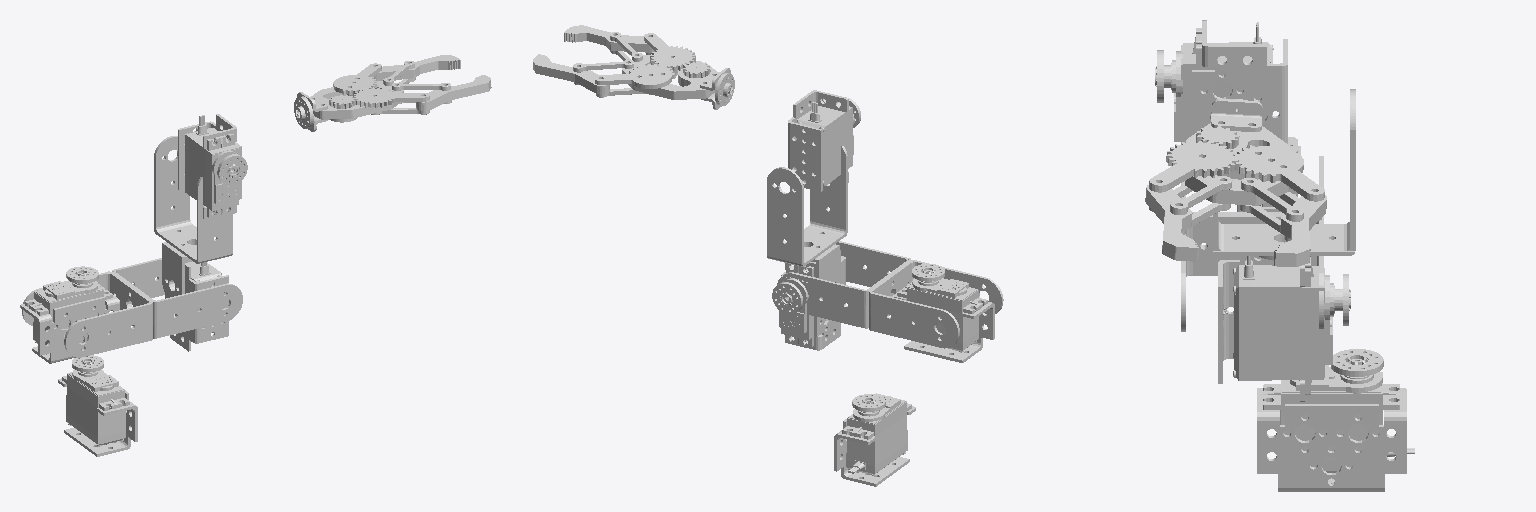
URDF robot description (manipulator_description):
<?xml version="1.0" encoding="utf-8"?>
<!-- This URDF was automatically created by SolidWorks to URDF Exporter! Originally created by Stephen Brawner (brawner@gmail.com) 
     Commit Version: 1.6.0-4-g7f85cfe  Build Version: 1.6.7995.38578
     For more information, please see http://wiki.ros.org/sw_urdf_exporter -->
<robot
  name="manipulator_description">
  <link
    name="base_link">
    <inertial>
      <origin
        xyz="-0.00125935649399742 -0.000470828682098662 0.0242757991162855"
        rpy="0 0 0" />
      <mass
        value="0.0382070631949755" />
      <inertia
        ixx="1.06084491676467E-05"
        ixy="-3.26790900389718E-10"
        ixz="1.55715035338171E-07"
        iyy="6.05895904112999E-06"
        iyz="1.70232643106764E-08"
        izz="7.32724940736576E-06" />
    </inertial>
    <visual>
      <origin
        xyz="0 0 0"
        rpy="0 0 0" />
      <geometry>
        <mesh
          filename="package://manipulator_description/meshes/visual/base_link.STL" />
      </geometry>
      <material
        name="">
        <color
          rgba="0.894117647058823 0.894117647058823 0.894117647058823 1" />
      </material>
    </visual>
    <collision>
      <origin
        xyz="0 0 0"
        rpy="0 0 0" />
      <geometry>
        <mesh
          filename="package://manipulator_description/meshes/visual/base_link.STL" />
      </geometry>
    </collision>
  </link>
  <link
    name="link_1">
    <inertial>
      <origin
        xyz="-0.000352632925941452 -0.0122755959836562 0.011761084859218"
        rpy="0 0 0" />
      <mass
        value="0.0382070631949755" />
      <inertia
        ixx="6.05895904112999E-06"
        ixy="-1.39083232081176E-08"
        ixz="3.26790900394249E-10"
        iyy="7.32724940736578E-06"
        iyz="-1.5571391727732E-07"
        izz="1.06084491676467E-05" />
    </inertial>
    <visual>
      <origin
        xyz="0 0 0"
        rpy="0 0 0" />
      <geometry>
        <mesh
          filename="package://manipulator_description/meshes/visual/link_1.STL" />
      </geometry>
      <material
        name="">
        <color
          rgba="0.894117647058823 0.894117647058823 0.894117647058823 1" />
      </material>
    </visual>
    <collision>
      <origin
        xyz="0 0 0"
        rpy="0 0 0" />
      <geometry>
        <mesh
          filename="package://manipulator_description/meshes/visual/link_1.STL" />
      </geometry>
    </collision>
  </link>
  <joint
    name="joint_1"
    type="revolute">
    <origin
      xyz="-0.00013003 -0.010042 0.0523"
      rpy="0 0 0" />
    <parent
      link="base_link" />
    <child
      link="link_1" />
    <axis
      xyz="0 0 1" />
    <limit
      lower="-1.5708"
      upper="1.5708"
      effort="0"
      velocity="0" />
  </joint>
  <link
    name="link_2">
    <inertial>
      <origin
        xyz="0.051993515342474 -9.31322574615479E-10 -0.0267906665296395"
        rpy="0 0 0" />
      <mass
        value="0.0170251169263653" />
      <inertia
        ixx="1.08907010787335E-05"
        ixy="-3.11047077368203E-08"
        ixz="-5.69079581921169E-21"
        iyy="1.68733569095532E-05"
        iyz="4.92221335979852E-21"
        izz="7.85969468178104E-06" />
    </inertial>
    <visual>
      <origin
        xyz="0 0 0"
        rpy="0 0 0" />
      <geometry>
        <mesh
          filename="package://manipulator_description/meshes/visual/link_2.STL" />
      </geometry>
      <material
        name="">
        <color
          rgba="0.894117647058823 0.894117647058823 0.894117647058823 1" />
      </material>
    </visual>
    <collision>
      <origin
        xyz="0 0 0"
        rpy="0 0 0" />
      <geometry>
        <mesh
          filename="package://manipulator_description/meshes/visual/link_2.STL" />
      </geometry>
    </collision>
  </link>
  <joint
    name="joint_2"
    type="revolute">
    <origin
      xyz="-0.0099229 -0.0403 0.01289"
      rpy="1.5708 0 0" />
    <parent
      link="link_1" />
    <child
      link="link_2" />
    <axis
      xyz="0 0 1" />
    <limit
      lower="-0.18"
      upper="1.5708"
      effort="0"
      velocity="0" />
  </joint>
  <link
    name="link_3">
    <inertial>
      <origin
        xyz="0.0207872542879387 -0.00129222747215796 -0.0276277319990221"
        rpy="0 0 0" />
      <mass
        value="0.0494773487894259" />
      <inertia
        ixx="1.18336660189981E-05"
        ixy="-1.24373046667245E-07"
        ixz="1.22838258168432E-08"
        iyy="1.954406916305E-05"
        iyz="1.55736259696696E-07"
        izz="1.17899796886126E-05" />
    </inertial>
    <visual>
      <origin
        xyz="0 0 0"
        rpy="0 0 0" />
      <geometry>
        <mesh
          filename="package://manipulator_description/meshes/visual/link_3.STL" />
      </geometry>
      <material
        name="">
        <color
          rgba="0.894117647058823 0.894117647058823 0.894117647058823 1" />
      </material>
    </visual>
    <collision>
      <origin
        xyz="0 0 0"
        rpy="0 0 0" />
      <geometry>
        <mesh
          filename="package://manipulator_description/meshes/visual/link_3.STL" />
      </geometry>
    </collision>
  </link>
  <joint
    name="joint_3"
    type="revolute">
    <origin
      xyz="0.10399 0 -0.0536"
      rpy="3.1416 0 1.5708" />
    <parent
      link="link_2" />
    <child
      link="link_3" />
    <axis
      xyz="0 0 1" />
    <limit
      lower="-0.9"
      upper="1.5708"
      effort="0"
      velocity="0" />
  </joint>
  <link
    name="link_4">
    <inertial>
      <origin
        xyz="0.0195473572227962 0.00989478222104906 -0.0286687556334632"
        rpy="0 0 0" />
      <mass
        value="0.0764141263985193" />
      <inertia
        ixx="1.7935698575237E-05"
        ixy="1.54155242457294E-07"
        ixz="-1.79704895792915E-07"
        iyy="1.66481799207673E-05"
        iyz="-2.81234507419311E-07"
        izz="1.34054367385943E-05" />
    </inertial>
    <visual>
      <origin
        xyz="0 0 0"
        rpy="0 0 0" />
      <geometry>
        <mesh
          filename="package://manipulator_description/meshes/visual/link_4.STL" />
      </geometry>
      <material
        name="">
        <color
          rgba="0.894117647058823 0.894117647058823 0.894117647058823 1" />
      </material>
    </visual>
    <collision>
      <origin
        xyz="0 0 0"
        rpy="0 0 0" />
      <geometry>
        <mesh
          filename="package://manipulator_description/meshes/visual/link_4.STL" />
      </geometry>
    </collision>
  </link>
  <joint
    name="joint_4"
    type="revolute">
    <origin
      xyz="0.096947 0.00052331 -0.053071"
      rpy="3.1416 0 1.5708" />
    <parent
      link="link_3" />
    <child
      link="link_4" />
    <axis
      xyz="0 0 1" />
    <limit
      lower="-0.7"
      upper="1.5708"
      effort="0"
      velocity="0" />
  </joint>
  <link
    name="link_5">
    <inertial>
      <origin
        xyz="-0.000538856928884224 -0.000263120239408951 0.0569395076569807"
        rpy="0 0 0" />
      <mass
        value="0.0268863153129433" />
      <inertia
        ixx="7.16101855054134E-06"
        ixy="-1.13902756733897E-07"
        ixz="4.51408091744934E-09"
        iyy="5.41815544607678E-06"
        iyz="6.93651865535309E-08"
        izz="1.95010952728468E-06" />
    </inertial>
    <visual>
      <origin
        xyz="0 0 0"
        rpy="0 0 0" />
      <geometry>
        <mesh
          filename="package://manipulator_description/meshes/visual/link_5.STL" />
      </geometry>
      <material
        name="">
        <color
          rgba="0.894117647058823 0.894117647058823 0.894117647058823 1" />
      </material>
    </visual>
    <collision>
      <origin
        xyz="0 0 0"
        rpy="0 0 0" />
      <geometry>
        <mesh
          filename="package://manipulator_description/meshes/visual/link_5.STL" />
      </geometry>
    </collision>
  </link>
  <joint
    name="joint_5"
    type="revolute">
    <origin
      xyz="0.06599 0.011967 -0.019837"
      rpy="-1.5708 0 -1.5708" />
    <parent
      link="link_4" />
    <child
      link="link_5" />
    <axis
      xyz="0 0 1" />
    <limit
      lower="-1.5708"
      upper="1.5708"
      effort="0"
      velocity="0" />
  </joint>
</robot>

--- Facts derived from the render (not from the file) ---
Views: 3 orthographic renders of the robot side by side, from view 1: azimuth 30°, elevation 25°; view 2: azimuth 150°, elevation 25°; view 3: azimuth 270°, elevation 25°.
Robot: manipulator_description — 6 links, 5 joints (5 revolute); root link base_link; default pose: all joints at 0.
Links seen in each view (by area): view 1: link_2, link_3, link_5, base_link, link_4, link_1; view 2: link_3, link_2, link_5, base_link, link_4, link_1; view 3: link_3, base_link, link_5, link_4, link_2.
Boxes of the visible links, bbox=[...] form: link_2: bbox=[22, 258, 242, 357]; link_3: bbox=[154, 136, 232, 351]; link_5: bbox=[294, 55, 491, 131]; base_link: bbox=[58, 355, 137, 456]; link_4: bbox=[178, 114, 247, 220]; link_1: bbox=[20, 266, 119, 363]; link_3: bbox=[767, 146, 847, 350]; link_2: bbox=[777, 241, 1003, 348]; link_5: bbox=[533, 25, 734, 109]; base_link: bbox=[834, 393, 915, 486]; link_4: bbox=[788, 90, 860, 191]; link_1: bbox=[893, 264, 994, 362]; link_3: bbox=[1213, 89, 1355, 401]; base_link: bbox=[1257, 349, 1414, 491]; link_5: bbox=[1145, 99, 1326, 266]; link_4: bbox=[1155, 20, 1287, 144]; link_2: bbox=[1181, 156, 1323, 331].
Bounding box of the posed robot: 0.3175 × 0.1058 × 0.2262 m (x, y, z).
Meshes: 6 distinct files referenced, 6 mesh visuals loaded (6 binary STL).
